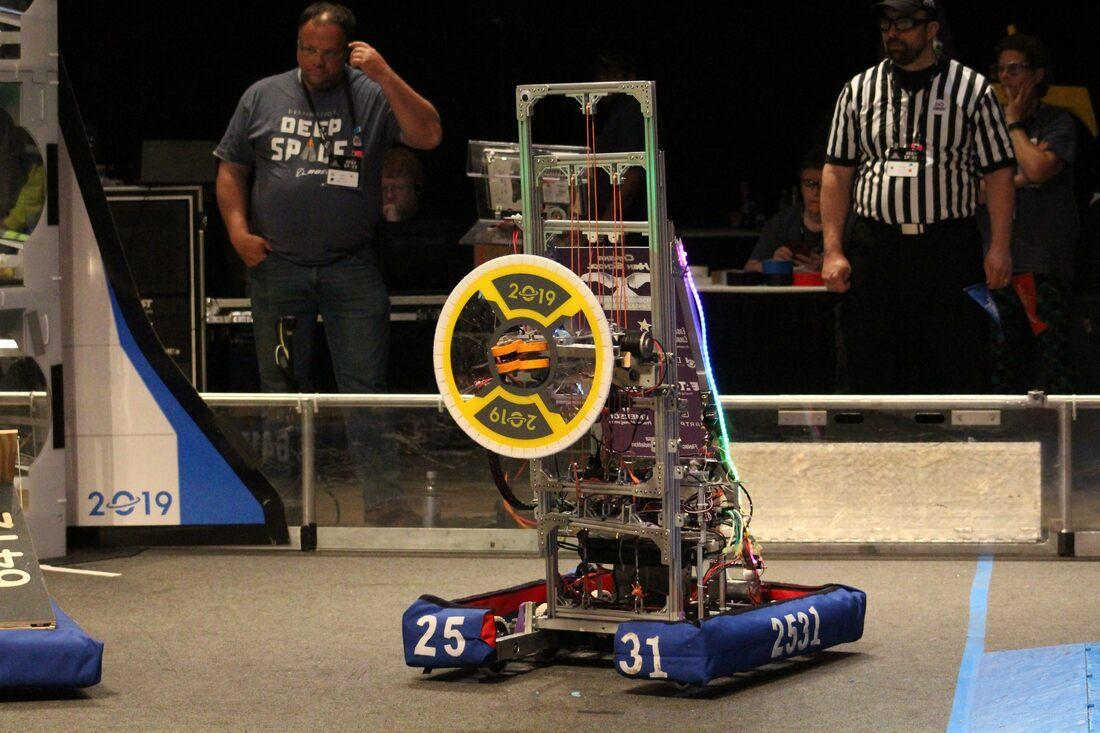robot: (393, 74, 872, 694)
